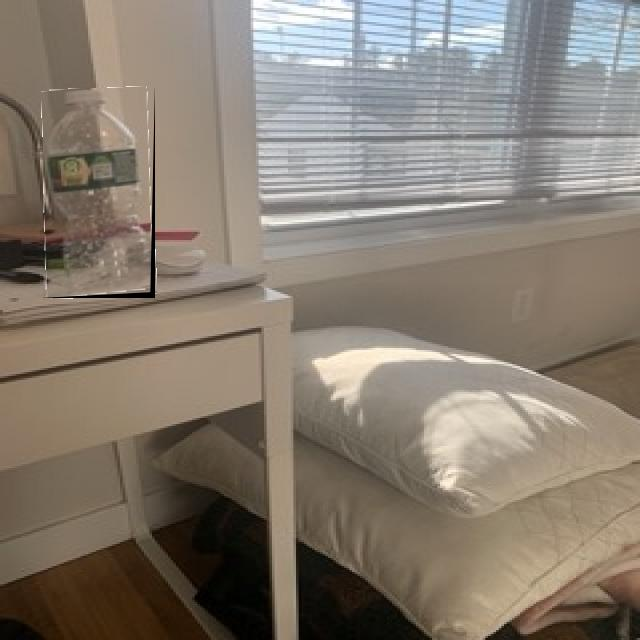water_bottle: (43, 88, 155, 298)
